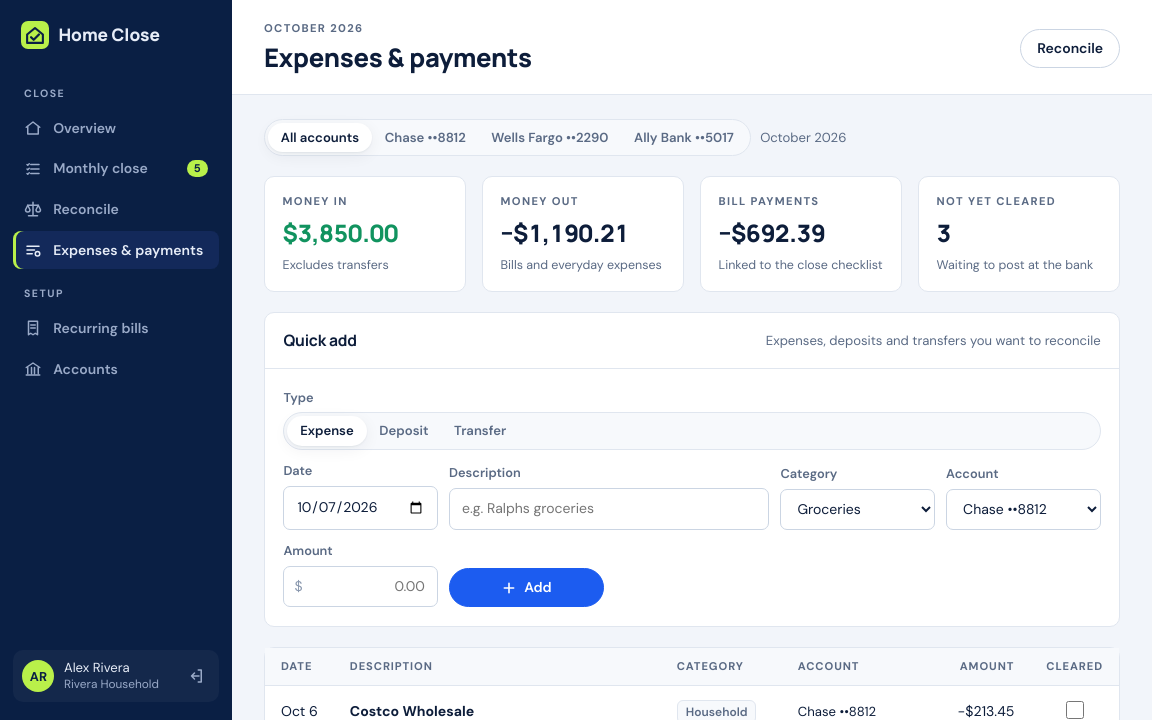
Test: expenses & payments › filters by account
The width and height of the screenshot is (1152, 720).
What coordinates should you click on to do the following:
click the link "Wells Fargo ••2290"
I would click on:
 (550, 137)
Its box is [491,129,608,146].
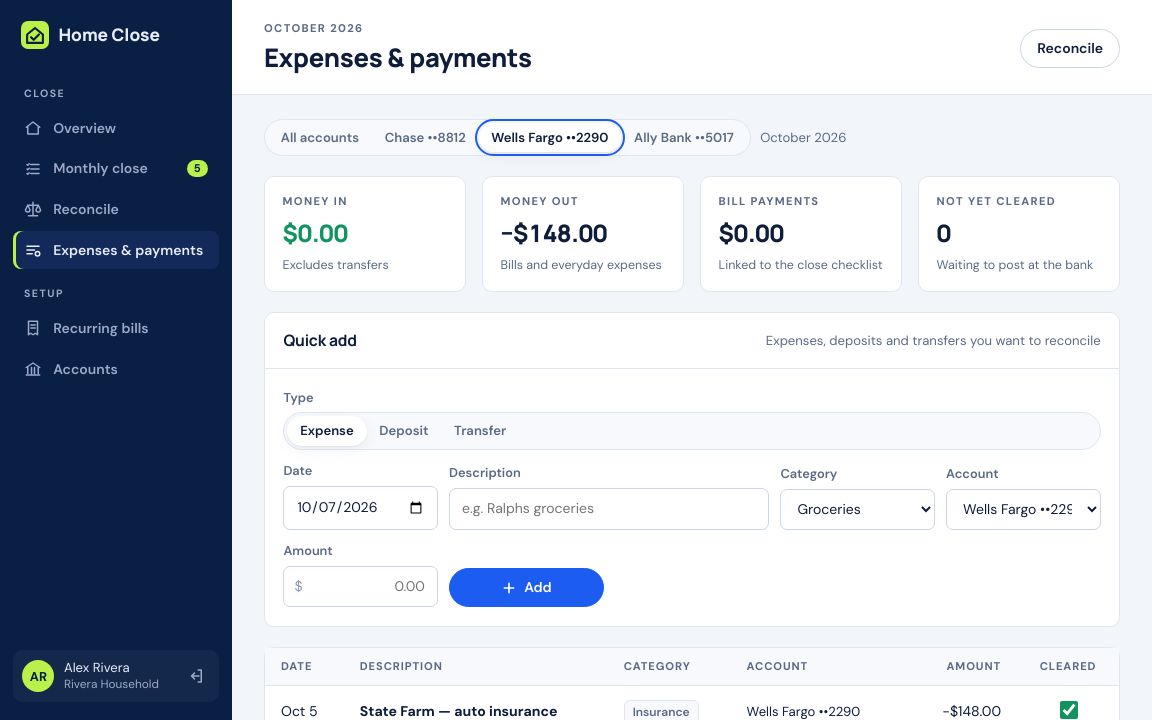
Now the dropdown labelled "Account" shows "Wells Fargo ••2290", box [946,489,1101,530]
